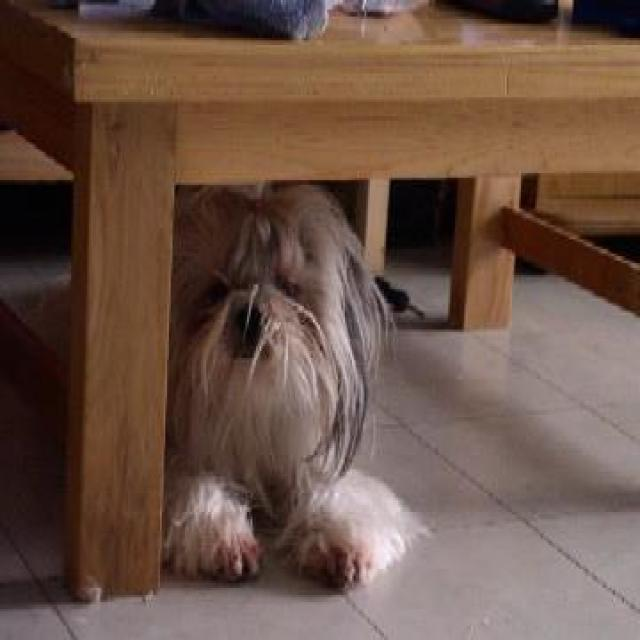shih_tzu: (160, 180, 427, 590)
